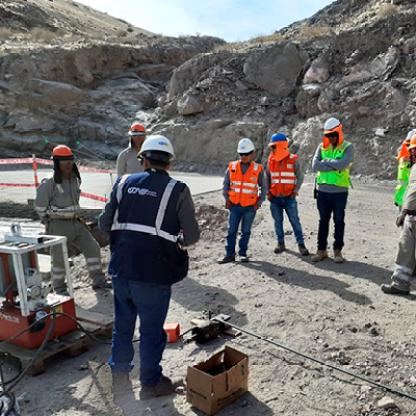person: (115, 124, 194, 384), (29, 133, 107, 308), (313, 110, 355, 285), (265, 123, 310, 266), (385, 107, 415, 305), (224, 125, 256, 263)
